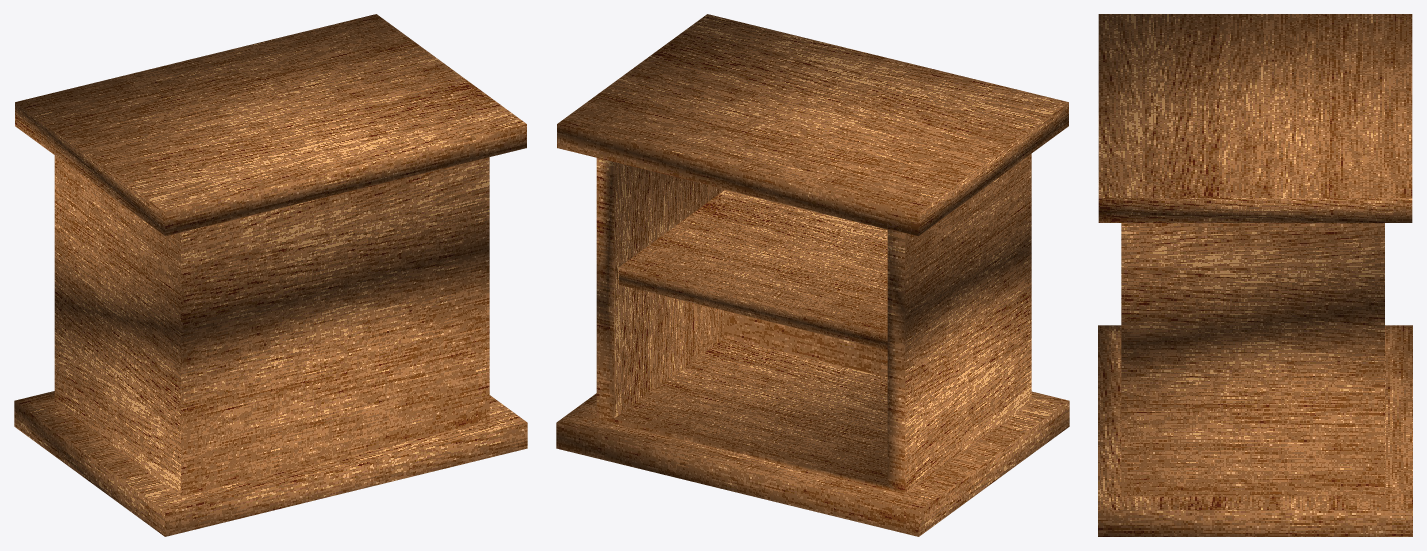
Rendered from TvStand.glb.
3 views of the same model, side by side, from view 1: azimuth 30°, elevation 25°; view 2: azimuth 150°, elevation 25°; view 3: azimuth 270°, elevation 25° (orthographic). The views are drawn at different scales.
Visible parts, largest first — view 1: TvStand; view 2: TvStand; view 3: TvStand.
Part boxes in pixels (x1=…): TvStand: x1=14, y1=14, x2=527, y2=536; TvStand: x1=556, y1=14, x2=1069, y2=536; TvStand: x1=1098, y1=14, x2=1412, y2=536.
Size of the model in its own units: 6.57 by 5.62 by 4.74.
Materials: 1 (1 with a texture image).
